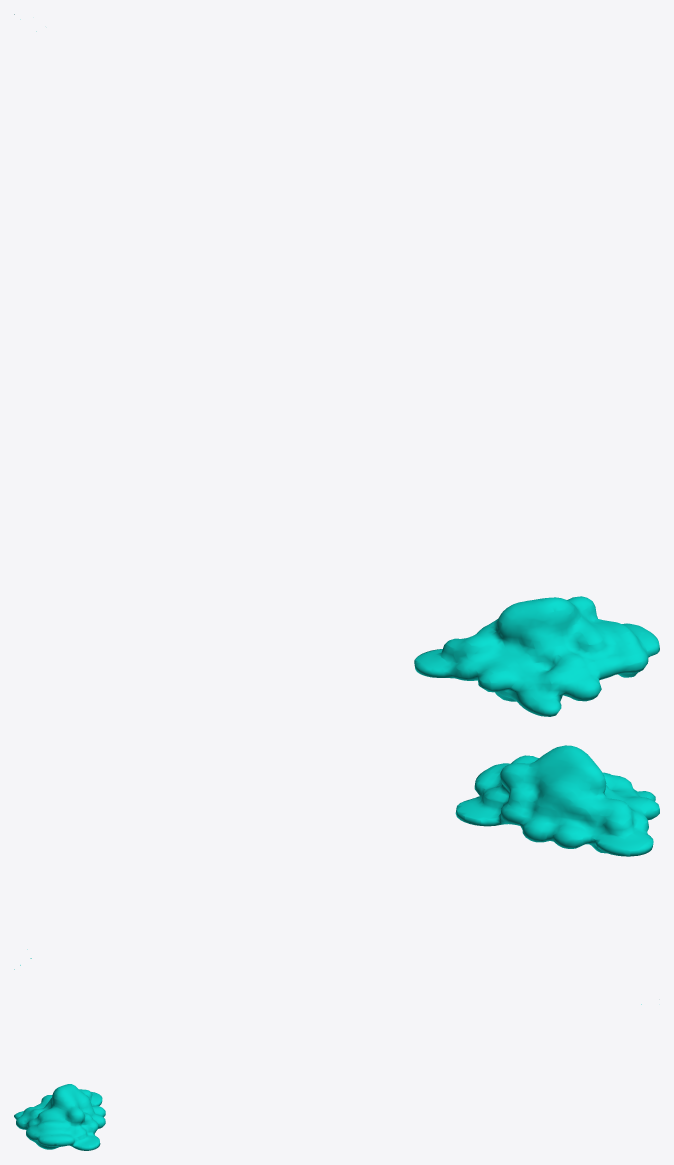
Rendered from cloud1.dae.
The picture shows the model from 3 angles, top to bottom: view 1: azimuth 30°, elevation 25°; view 2: azimuth 150°, elevation 25°; view 3: azimuth 270°, elevation 25°; orthographic projection. The views are drawn at different scales.
Parts seen in each view (by area): view 1: Cloud; view 2: Cloud; view 3: Cloud.
Part boxes in pixels (x1,y1,x2,y2): Cloud: [14, 14, 659, 716]; Cloud: [14, 745, 659, 969]; Cloud: [14, 1004, 641, 1150].
Bounding box in the file's own units: 88.75 × 112 × 448.
